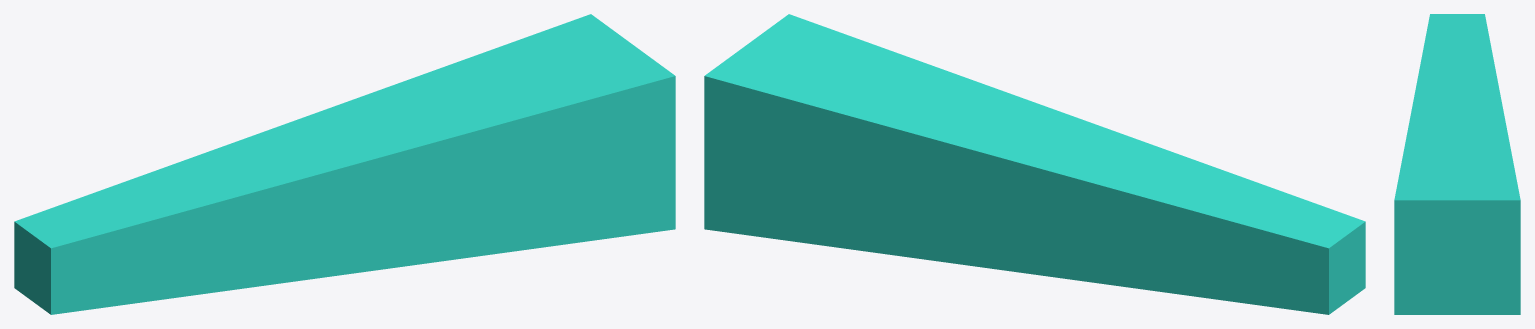
The picture shows the model from 3 angles, left to right: view 1: azimuth 30°, elevation 25°; view 2: azimuth 150°, elevation 25°; view 3: azimuth 270°, elevation 25°; orthographic projection. The views are drawn at different scales.
Parts seen in each view (by area): view 1: Cube; view 2: Cube; view 3: Cube.
Boxes of the visible parts, x1,y1,x2,y2 form: Cube: (14,14,675,314); Cube: (704,14,1365,314); Cube: (1394,14,1520,314).
Bounding box in the file's own units: 689 × 168 × 168.
